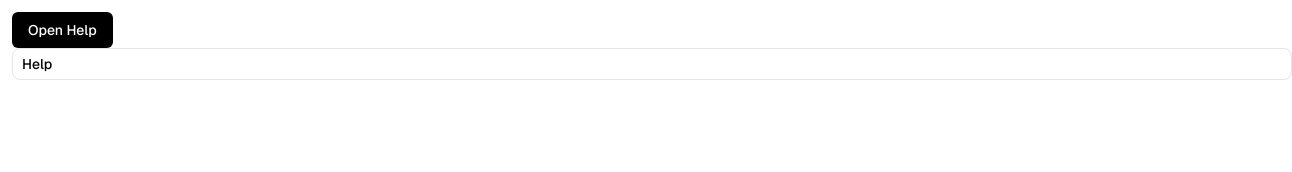
Scenario: Menubar › opens when a menu is controlled open
Click the button "Open Help" at point(62, 30), box x1=12 y1=12 x2=113 y2=48
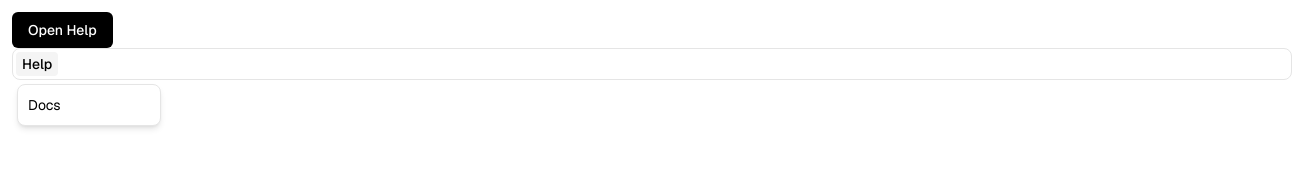
Expected: the menu item "Docs" is shown, x1=28 y1=96 x2=61 y2=114
